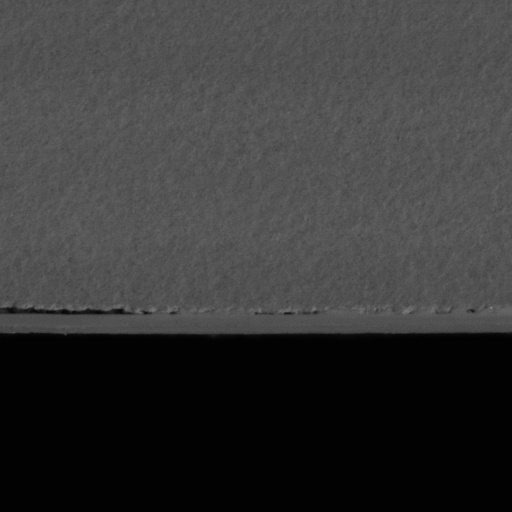jiaofeng: (3, 299, 153, 327)
